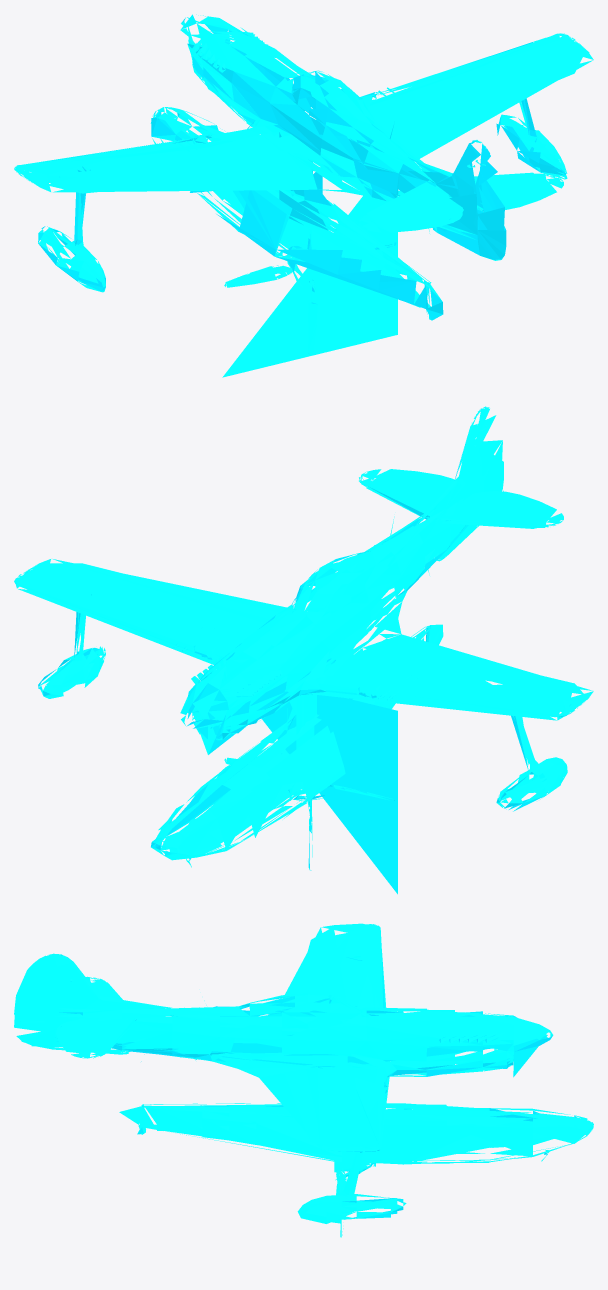
Rendered from PAAF024.glb.
3 renders of one model, top to bottom at view 1: azimuth 30°, elevation 25°; view 2: azimuth 150°, elevation 25°; view 3: azimuth 270°, elevation 25°, orthographic. The views are drawn at different scales.
Visible parts, largest first — view 1: misc; view 2: misc; view 3: misc.
Part boxes in pixels (x1,y1,x2,y2): misc: (14, 14, 593, 377); misc: (14, 406, 593, 894); misc: (14, 923, 593, 1237).
Bounding box in the file's own units: 0.7173 × 0.4194 × 0.7716.
